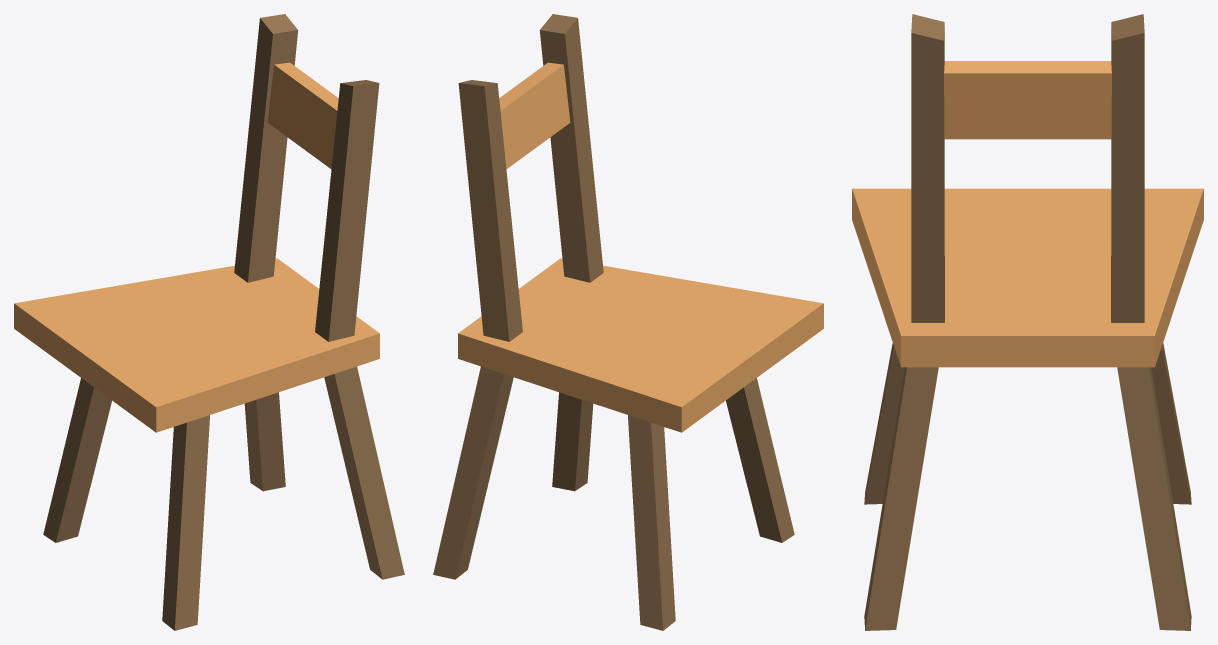
File: Chair.fbx
3 renders of one model, left to right at view 1: azimuth 30°, elevation 25°; view 2: azimuth 150°, elevation 25°; view 3: azimuth 270°, elevation 25°, orthographic. The views are drawn at different scales.
Visible parts, largest first — view 1: Seat; view 2: Seat; view 3: Seat.
Part boxes in pixels (x1,y1,x2,y2): Seat: [14, 14, 404, 630]; Seat: [433, 14, 823, 630]; Seat: [852, 14, 1203, 630].
Size of the model in its own units: 51.17 by 92.93 by 49.58.
